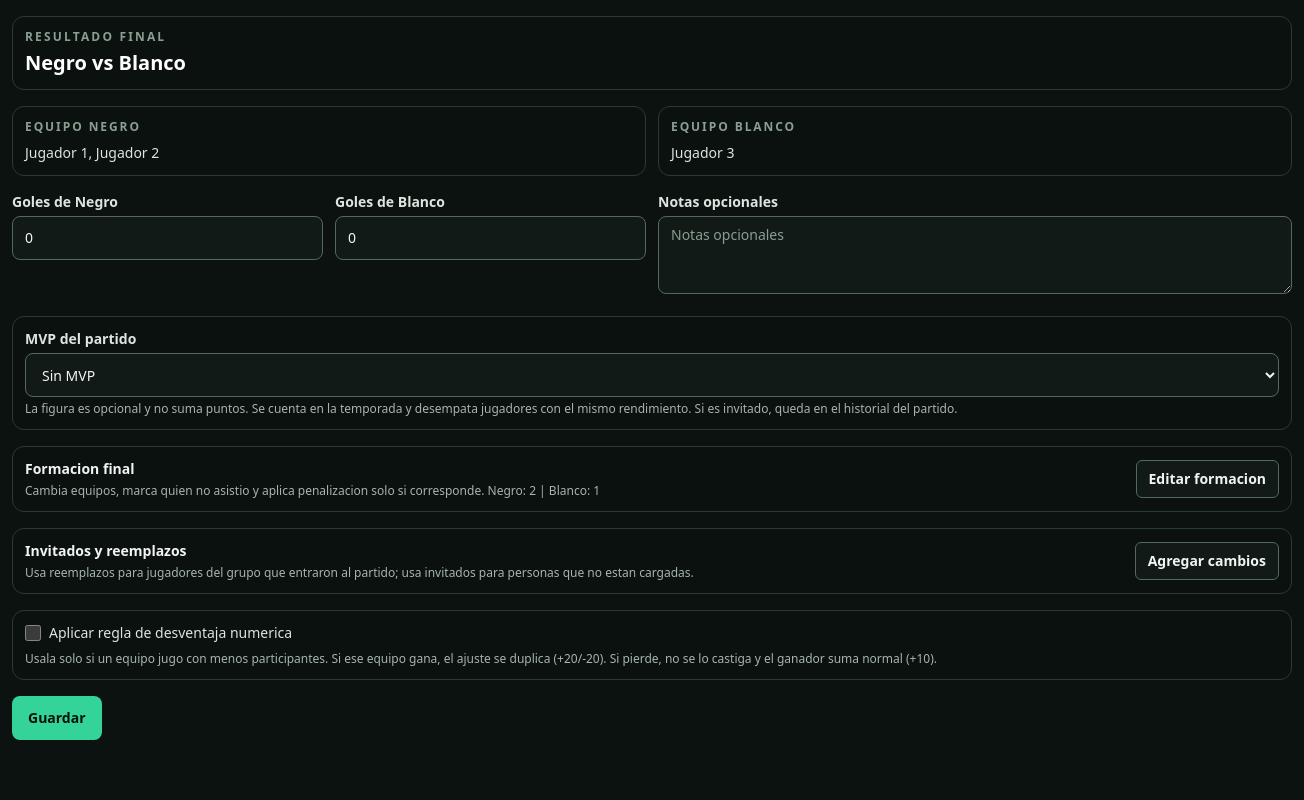
Test case: MatchResultEditor › muestra el error si el submit falla
Click the button "Guardar" at (57, 718), box [12, 696, 102, 740]
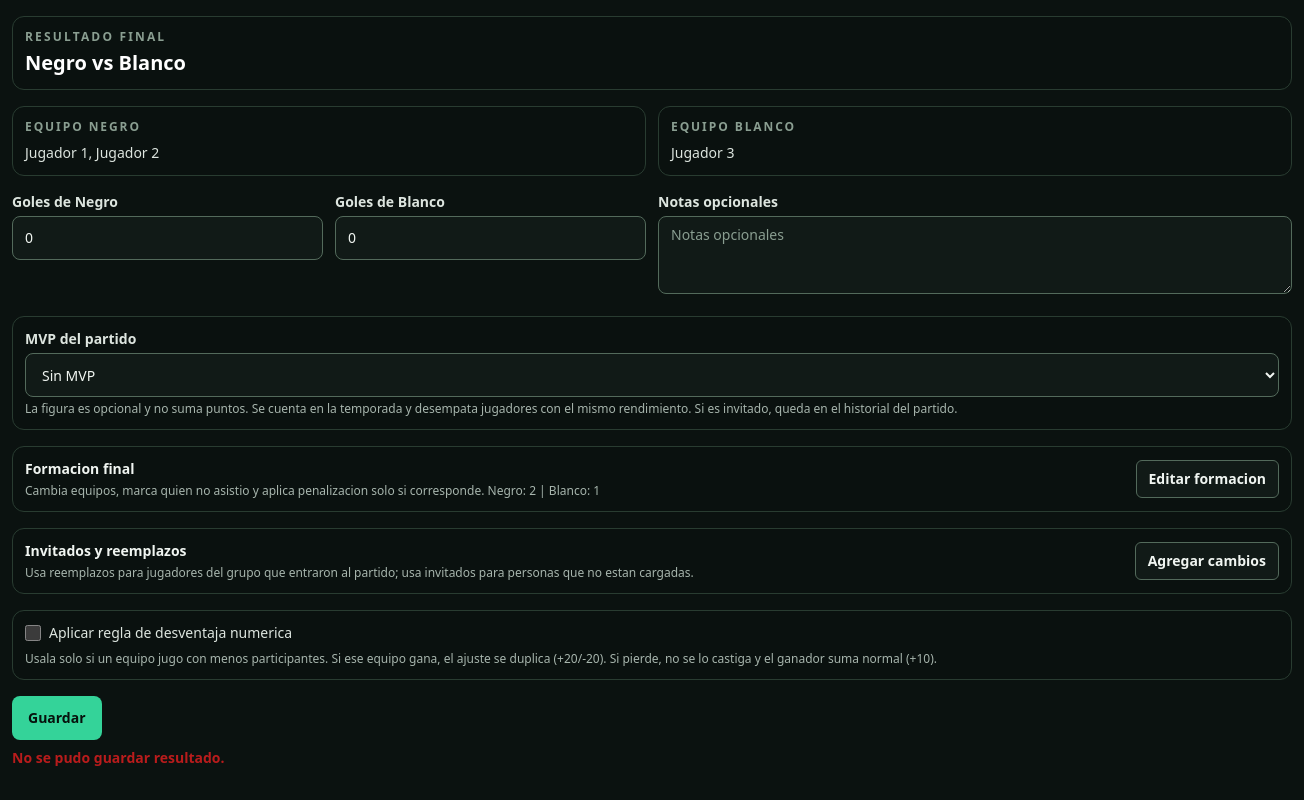
Result: the text "No se pudo guardar resultado." is shown at [12, 748, 224, 767]
